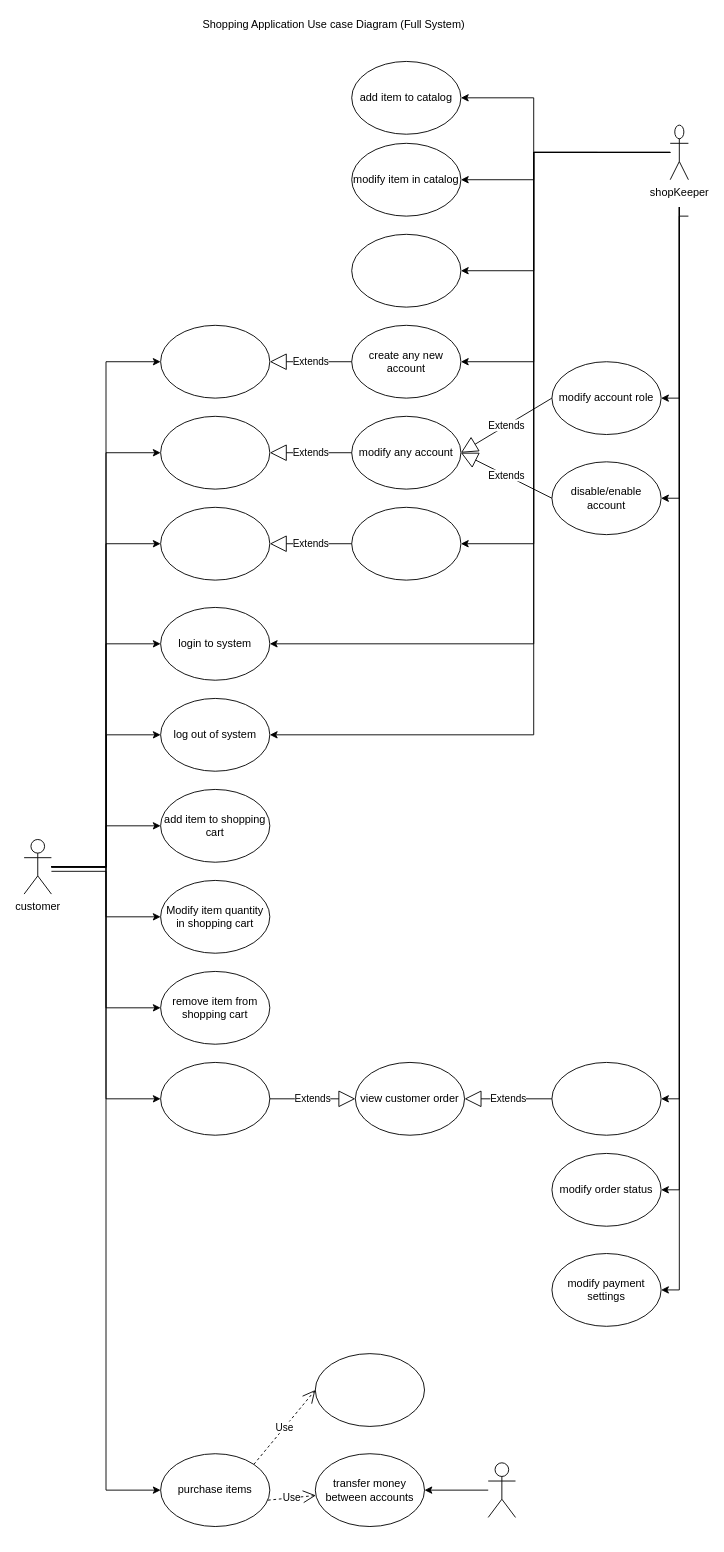
This 724x1552 diagram has some shape labels left out. Each missing label, with the centre of its shape:
"bank" goes at (x=501, y=1489).
"convert shopping cart to invoice and order" goes at (x=369, y=1389).
"create new customer account" goes at (x=215, y=361).
"delete any account" goes at (x=406, y=543).
"delete customer account" goes at (x=215, y=543).
"delete item from catalog" goes at (x=406, y=270).
"modify customer account" goes at (x=215, y=452).
"view all orders" goes at (x=606, y=1098).
"view customer orders" goes at (x=215, y=1098).
